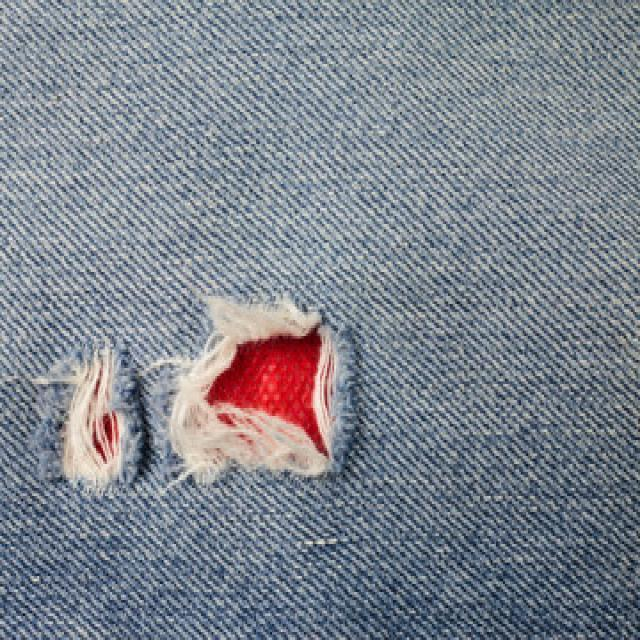Hole: (168, 297, 352, 484), (62, 349, 123, 488)
